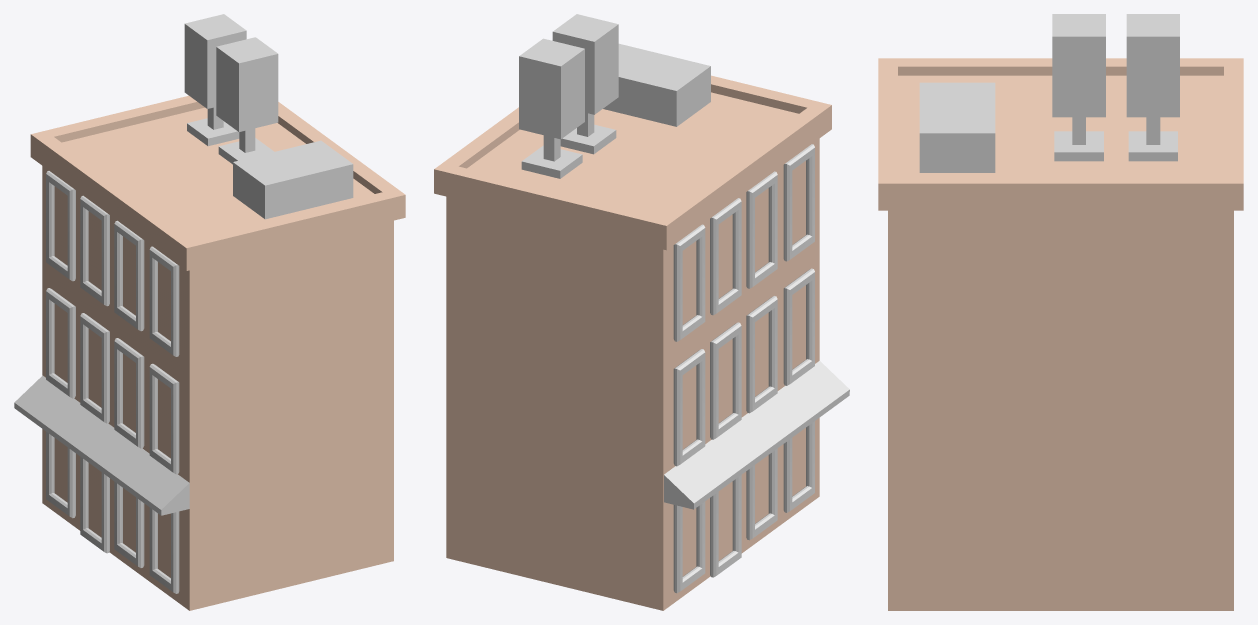
File: apt2.FBX
3 renders of one model, left to right at view 1: azimuth 30°, elevation 25°; view 2: azimuth 150°, elevation 25°; view 3: azimuth 270°, elevation 25°, orthographic. The views are drawn at different scales.
Parts seen in each view (by area): view 1: Box028, Cylinder003, Box031, Box030, Box029, Rectangle042, Rectangle047, Rectangle039, Rectangle044, Rectangle046, Rectangle043, Rectangle041 (+5 smaller); view 2: Box028, Cylinder003, Box029, Box031, Box030, Rectangle044, Rectangle041, Rectangle043, Rectangle042, Rectangle047, Rectangle040, Rectangle039 (+5 smaller); view 3: Box028, Box029, Box030, Box031.
Part boxes in pixels (bbox=[...]): Box028: bbox=[30, 95, 405, 610]; Cylinder003: bbox=[14, 375, 189, 515]; Box031: bbox=[233, 140, 353, 219]; Box030: bbox=[216, 37, 278, 164]; Box029: bbox=[184, 14, 246, 146]; Rectangle042: bbox=[114, 338, 144, 448]; Rectangle047: bbox=[149, 363, 179, 474]; Rectangle039: bbox=[114, 220, 144, 331]; Rectangle044: bbox=[46, 288, 75, 398]; Rectangle046: bbox=[149, 246, 179, 356]; Rectangle043: bbox=[80, 313, 109, 423]; Rectangle041: bbox=[46, 171, 75, 281]; Box028: bbox=[434, 75, 831, 610]; Cylinder003: bbox=[664, 360, 849, 509]; Box029: bbox=[519, 38, 584, 178]; Box031: bbox=[603, 43, 710, 126]; Box030: bbox=[552, 14, 618, 154]; Rectangle044: bbox=[673, 349, 705, 466]; Rectangle041: bbox=[673, 224, 705, 341]; Rectangle043: bbox=[710, 322, 741, 439]; Rectangle042: bbox=[746, 296, 777, 413]; Rectangle047: bbox=[783, 268, 814, 385]; Rectangle040: bbox=[710, 198, 741, 315]; Rectangle039: bbox=[746, 171, 777, 288]; Box028: bbox=[878, 58, 1243, 610]; Box029: bbox=[1126, 14, 1179, 161]; Box030: bbox=[1052, 14, 1105, 161]; Box031: bbox=[919, 82, 995, 172].
Size of the model in its own units: 129 by 241 by 145.
